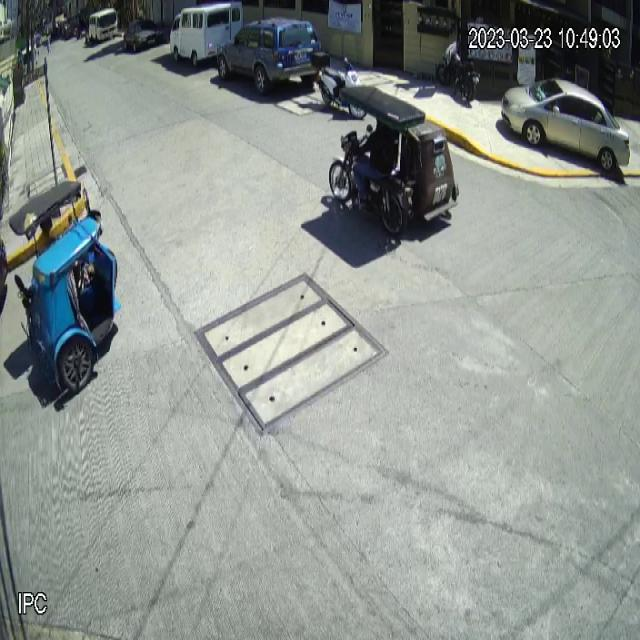Car: (501, 78, 630, 171), (216, 16, 323, 96)
Motorcycle: (309, 49, 369, 120)
Tricycle: (8, 178, 122, 396), (328, 84, 460, 241)
Van: (169, 0, 242, 69)
